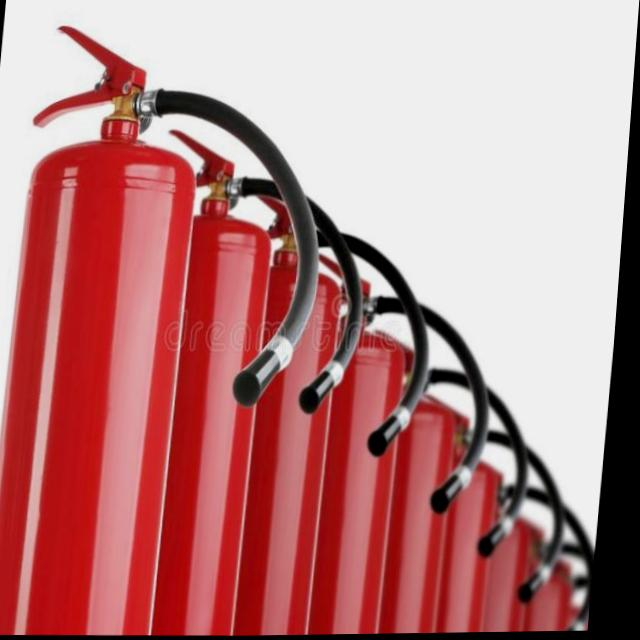FireExtinguisher: (0, 16, 343, 639), (107, 121, 384, 638), (200, 172, 453, 637), (268, 234, 515, 636)
